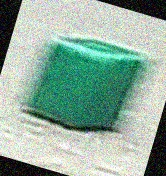green_cube: (25, 29, 147, 141)
